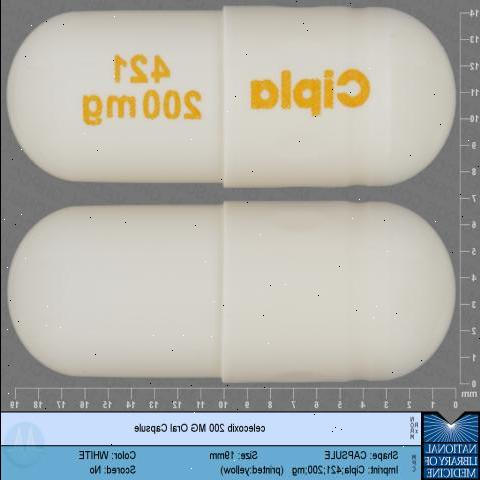Pill: (0, 192, 458, 404), (0, 0, 452, 199)
